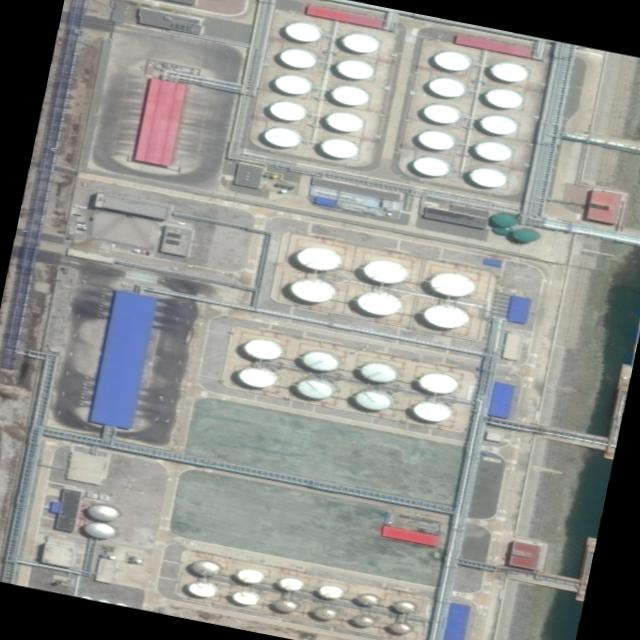storage-tank: (347, 285, 410, 322), (356, 254, 419, 291), (290, 240, 350, 278), (424, 266, 484, 303), (282, 272, 342, 308), (418, 299, 478, 335), (288, 373, 342, 406), (427, 44, 480, 77), (230, 362, 284, 394), (460, 162, 513, 194), (260, 95, 313, 127), (297, 345, 347, 378), (486, 56, 539, 87), (237, 334, 288, 366), (326, 80, 378, 111), (256, 121, 308, 152), (408, 395, 456, 428), (481, 83, 532, 114), (319, 107, 370, 138), (356, 356, 405, 388), (468, 136, 520, 166), (474, 110, 524, 141), (315, 132, 365, 163), (416, 99, 467, 129), (267, 69, 316, 100), (274, 44, 326, 73), (338, 28, 388, 58), (351, 385, 399, 416), (415, 368, 464, 398), (421, 73, 470, 103), (331, 54, 380, 84), (411, 125, 461, 154), (404, 152, 454, 181), (281, 18, 330, 47), (184, 575, 225, 603), (187, 553, 229, 580), (80, 501, 123, 525), (77, 518, 120, 542), (228, 584, 267, 610), (234, 563, 271, 588), (270, 592, 305, 617), (307, 601, 344, 624), (314, 579, 349, 603), (388, 616, 423, 640), (348, 608, 383, 632), (391, 595, 425, 618), (351, 587, 385, 610), (277, 572, 311, 595)
